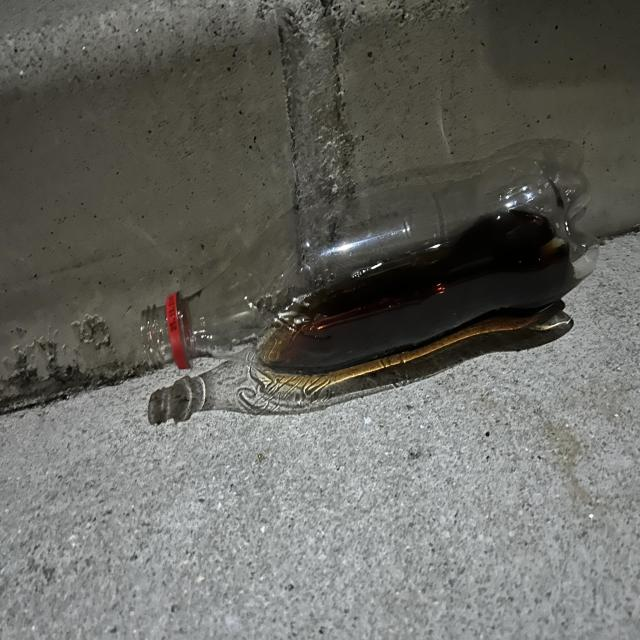low: (141, 157, 594, 376)
